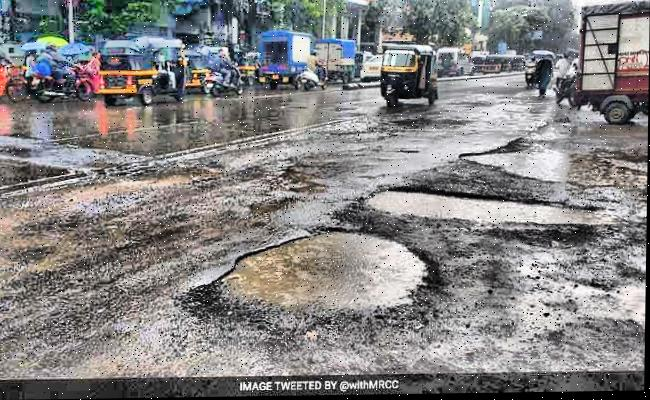pothole: (220, 225, 435, 327), (359, 179, 598, 240), (458, 134, 647, 194)
